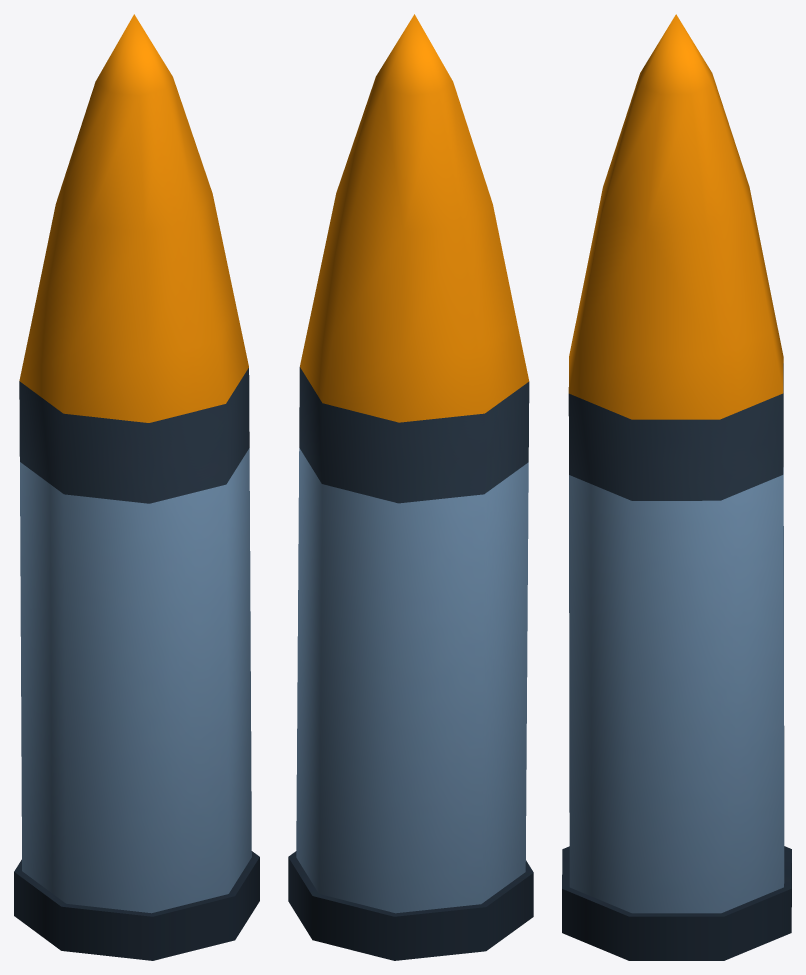
File: bullet.fbx
3 views of the same model, side by side, from view 1: azimuth 30°, elevation 25°; view 2: azimuth 150°, elevation 25°; view 3: azimuth 270°, elevation 25° (orthographic).
Parts seen in each view (by area): view 1: grenade2_3.001; view 2: grenade2_3.001; view 3: grenade2_3.001.
Part boxes in pixels (box(x1,y1,x2,y2)): grenade2_3.001: box(14, 14, 259, 960); grenade2_3.001: box(288, 14, 533, 960); grenade2_3.001: box(562, 14, 791, 960).
Size of the model in its own units: 5.77 by 24.91 by 5.77.
